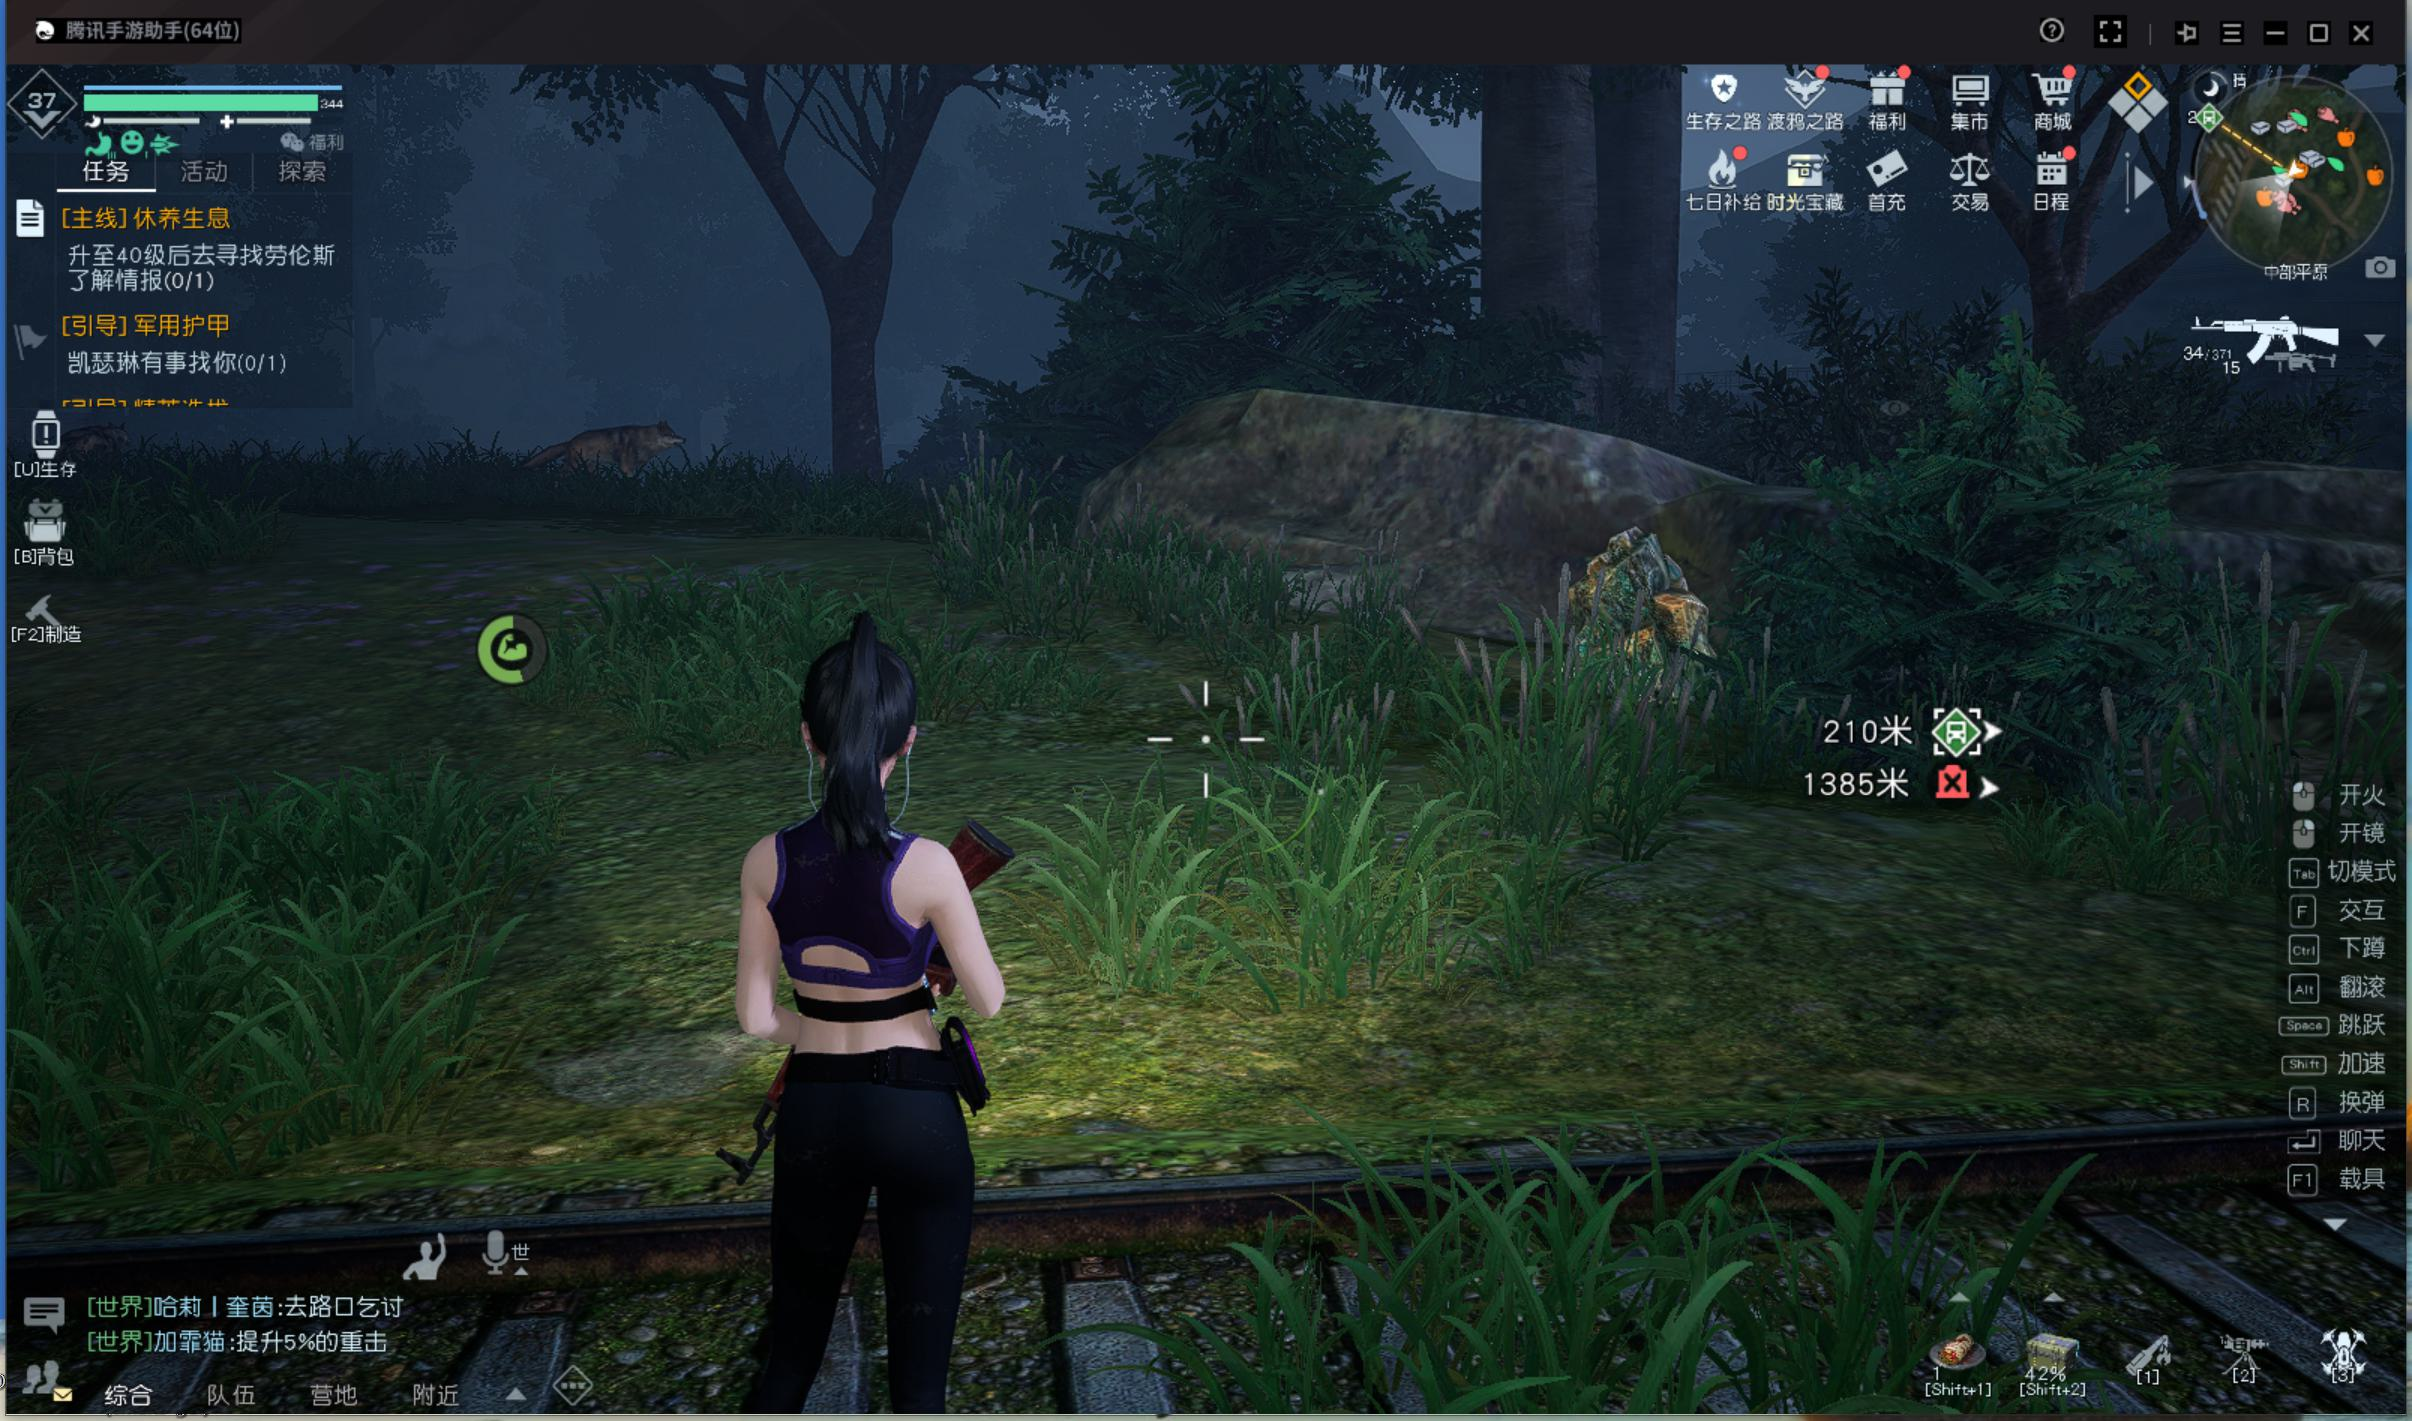stone: (1536, 511, 1739, 739)
tree: (807, 247, 903, 519)
